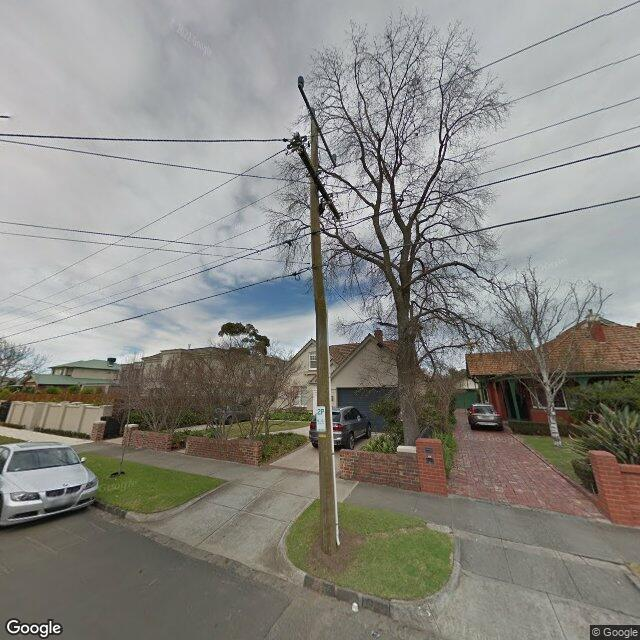HV-transmission: (298, 75, 336, 164)
crossarm: (298, 85, 336, 167), (300, 150, 340, 219)
timber-pole: (311, 120, 337, 555)
